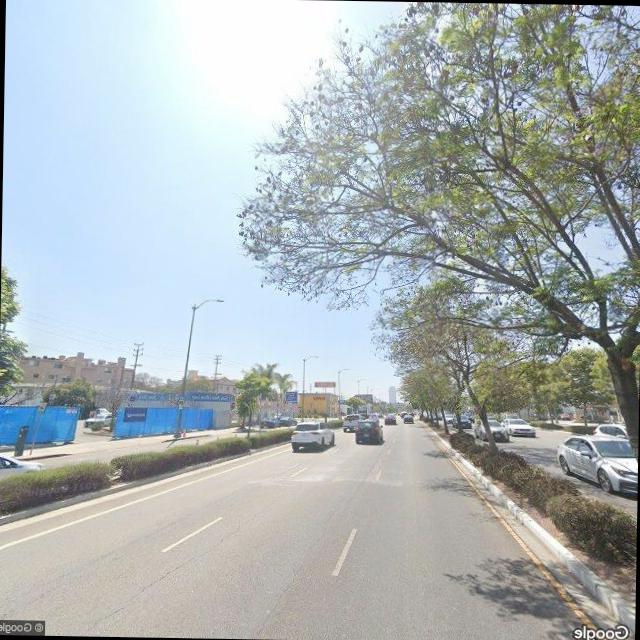pothole: (81, 513, 256, 634)
